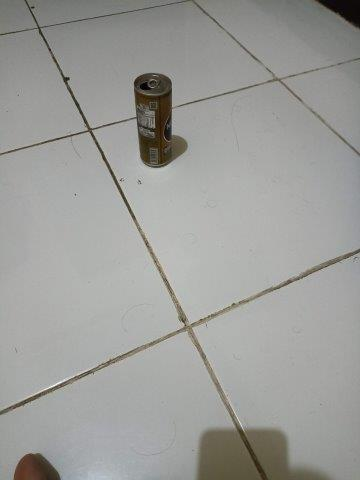kaleng: (133, 71, 173, 170)
